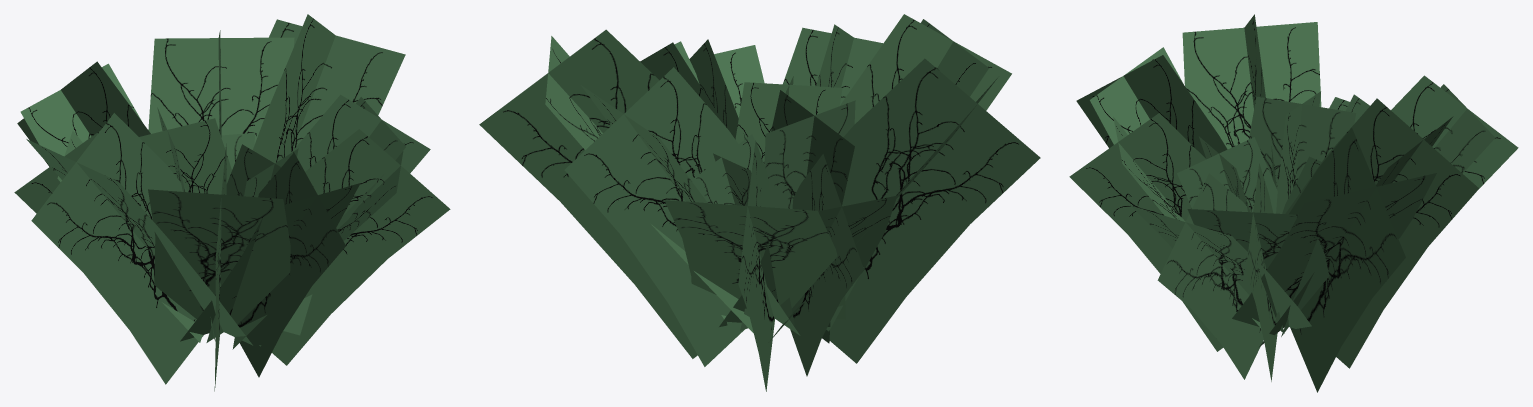
File: Branch_PNG_Dense_01_Wide.fbx
The picture shows the model from 3 angles, left to right: view 1: azimuth 30°, elevation 25°; view 2: azimuth 150°, elevation 25°; view 3: azimuth 270°, elevation 25°; orthographic projection. The views are drawn at different scales.
Visible parts, largest first — view 1: Branch_PNG_Dense_01_Wide.001; view 2: Branch_PNG_Dense_01_Wide.001; view 3: Branch_PNG_Dense_01_Wide.001.
Part boxes in pixels (x1,y1,x2,y2): Branch_PNG_Dense_01_Wide.001: (14, 14, 450, 391); Branch_PNG_Dense_01_Wide.001: (479, 14, 1040, 391); Branch_PNG_Dense_01_Wide.001: (1069, 14, 1518, 392).
Size of the model in its own units: 228 by 154 by 212.
